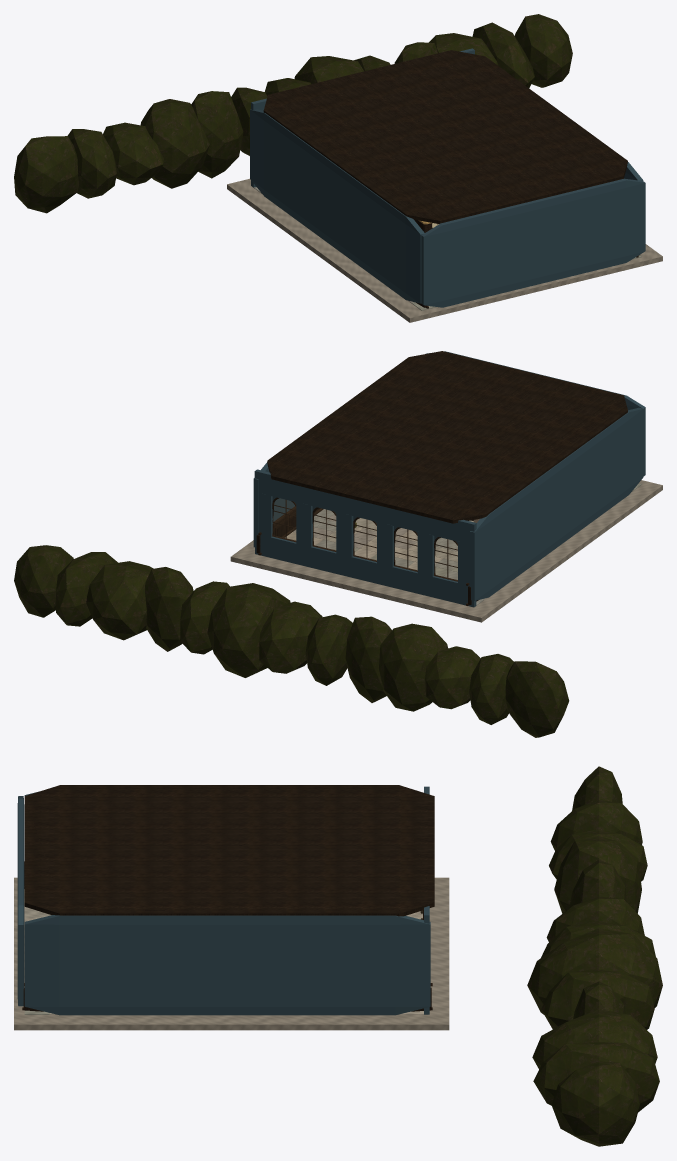
Rendered from museum-3.glb.
3 views of the same model, one above another, from view 1: azimuth 30°, elevation 25°; view 2: azimuth 150°, elevation 25°; view 3: azimuth 270°, elevation 25° (orthographic). The views are drawn at different scales.
Visible parts, largest first — view 1: Walnut ceiling.003, Distant view beyond gallery windows.003, Entry wall.003, Deep teal gallery side walls.003, Terrain.003; view 2: Distant view beyond gallery windows.003, Walnut ceiling.003, Deep teal gallery side walls.003, Terrain.003, Rear wall under windows.003, Rear wall between the windows.003, Rear wall over arched windows.003, Hand-laid limestone square tiles.003, Sculpted walnut window trim.003, Entry wall.003; view 3: Walnut ceiling.003, Deep teal gallery side walls.003, Distant view beyond gallery windows.003, Terrain.003, Entry wall.003.
Boxes of the visible parts, left/top/right/bottom form: Walnut ceiling.003: left=263, top=50, right=627, bottom=223; Distant view beyond gallery windows.003: left=14, top=14, right=572, bottom=213; Entry wall.003: left=421, top=178, right=645, bottom=307; Deep teal gallery side walls.003: left=250, top=109, right=643, bottom=303; Terrain.003: left=227, top=178, right=662, bottom=322; Distant view beyond gallery windows.003: left=14, top=545, right=569, bottom=737; Walnut ceiling.003: left=267, top=351, right=627, bottom=523; Deep teal gallery side walls.003: left=253, top=407, right=643, bottom=600; Terrain.003: left=230, top=480, right=662, bottom=622; Rear wall under windows.003: left=255, top=535, right=476, bottom=607; Rear wall between the windows.003: left=258, top=493, right=469, bottom=586; Rear wall over arched windows.003: left=254, top=469, right=476, bottom=544; Hand-laid limestone square tiles.003: left=271, top=483, right=642, bottom=605; Sculpted walnut window trim.003: left=272, top=497, right=457, bottom=581; Entry wall.003: left=426, top=351, right=645, bottom=475; Walnut ceiling.003: left=24, top=785, right=434, bottom=916; Deep teal gallery side walls.003: left=24, top=791, right=430, bottom=1015; Distant view beyond gallery windows.003: left=527, top=766, right=662, bottom=1146; Terrain.003: left=14, top=877, right=449, bottom=1030; Entry wall.003: left=17, top=796, right=24, bottom=1006.
Size of the model in its own units: 29.33 by 7.02 by 25.19.
Materials: 12 (3 with a texture image).
